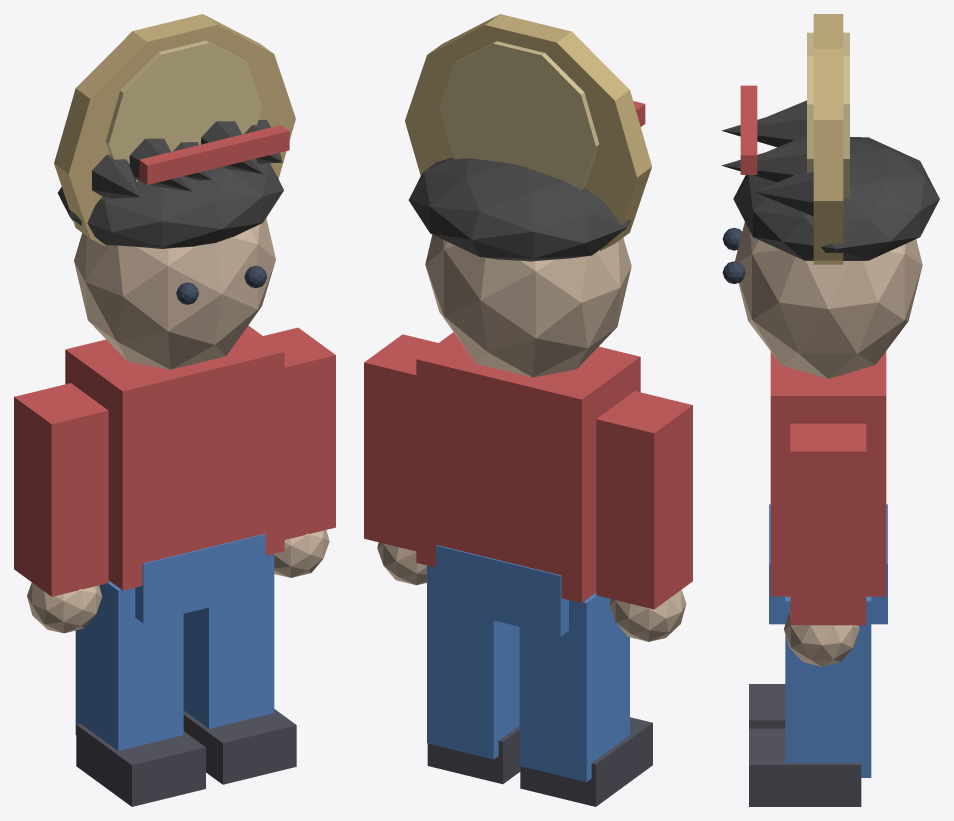
Rendered from luffy.glb.
3 views of the same model, side by side, from view 1: azimuth 30°, elevation 25°; view 2: azimuth 150°, elevation 25°; view 3: azimuth 270°, elevation 25° (orthographic). The views are drawn at different scales.
Parts seen in each view (by area): view 1: part_000, part_010, part_002, part_004, part_019, part_020, part_008, part_013, part_006, part_001, part_005, part_009 (+6 smaller); view 2: part_000, part_010, part_002, part_004, part_020, part_013, part_019, part_008, part_006, part_001, part_005, part_009 (+2 smaller); view 3: part_010, part_006, part_000, part_013, part_008, part_019, part_009, part_007, part_020, part_017, part_015, part_005 (+4 smaller).
Boxes of the visible parts, left/top/right/bottom form: part_000: left=65, top=325, right=284, bottom=590; part_010: left=74, top=218, right=275, bottom=369; part_002: left=14, top=383, right=108, bottom=596; part_004: left=75, top=581, right=183, bottom=750; part_019: left=54, top=14, right=295, bottom=245; part_020: left=105, top=40, right=262, bottom=181; part_008: left=183, top=554, right=274, bottom=728; part_013: left=58, top=163, right=283, bottom=248; part_006: left=263, top=327, right=335, bottom=539; part_001: left=135, top=533, right=265, bottom=623; part_005: left=76, top=723, right=205, bottom=806; part_009: left=183, top=709, right=296, bottom=784; part_000: left=416, top=332, right=640, bottom=602; part_010: left=425, top=234, right=631, bottom=377; part_002: left=596, top=391, right=692, bottom=609; part_004: left=519, top=593, right=629, bottom=782; part_020: left=439, top=41, right=599, bottom=190; part_013: left=408, top=157, right=630, bottom=261; part_019: left=405, top=14, right=651, bottom=250; part_008: left=427, top=565, right=519, bottom=759; part_006: left=364, top=334, right=437, bottom=551; part_001: left=436, top=545, right=568, bottom=636; part_005: left=520, top=717, right=652, bottom=806; part_009: left=427, top=725, right=520, bottom=784; part_010: left=735, top=222, right=922, bottom=378; part_006: left=790, top=423, right=866, bottom=625; part_000: left=770, top=351, right=886, bottom=596; part_013: left=733, top=137, right=939, bottom=260; part_008: left=785, top=596, right=871, bottom=777; part_019: left=813, top=14, right=843, bottom=264; part_009: left=749, top=728, right=861, bottom=806; part_007: left=784, top=610, right=859, bottom=666; part_020: left=807, top=32, right=849, bottom=198; part_017: left=721, top=140, right=806, bottom=182; part_015: left=721, top=105, right=806, bottom=147; part_005: left=749, top=684, right=785, bottom=728.
Bounding box in the file's own units: 1.03 × 2.46 × 0.6628.
